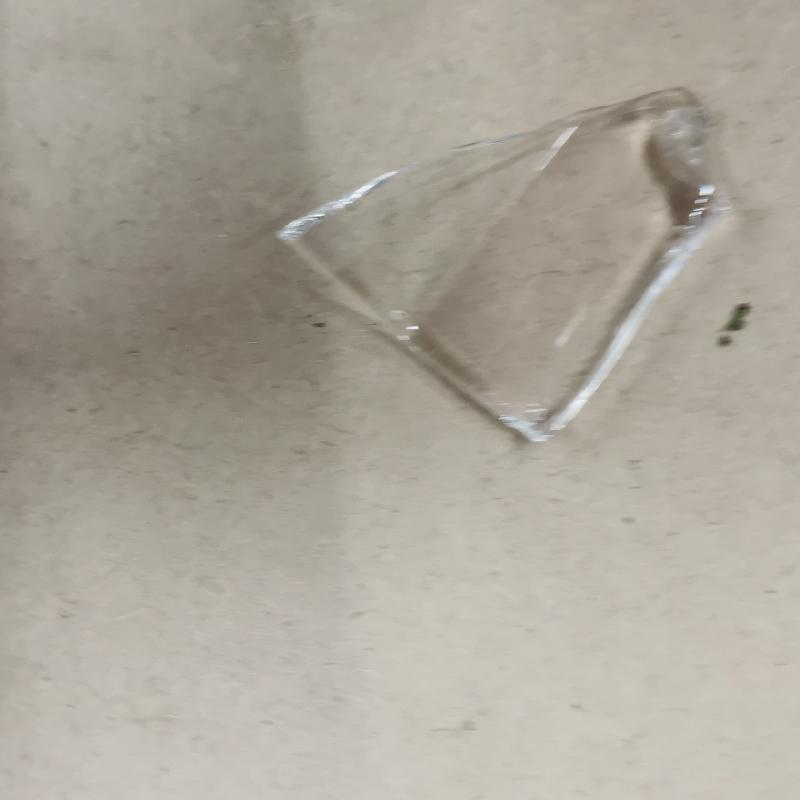glass: (275, 88, 722, 445)
